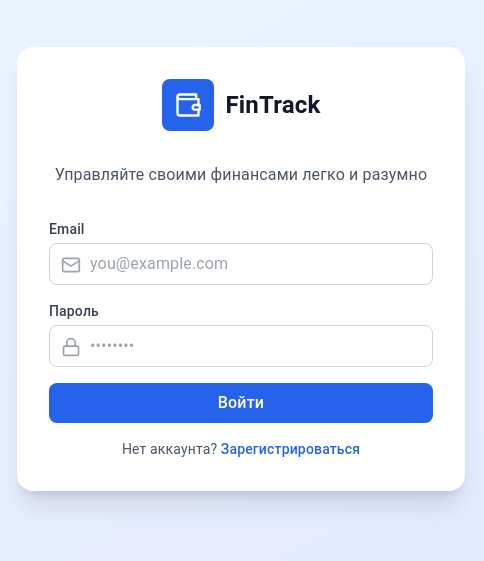
Test case: Вход пользователя в систему › SC-LOGIN-02: Пользователь видит ошибку при неверном пароле
Step 1. Type "test.user@example.com" into the field with placeholder "you@example.com" → (241, 264), box [49,243,433,285]
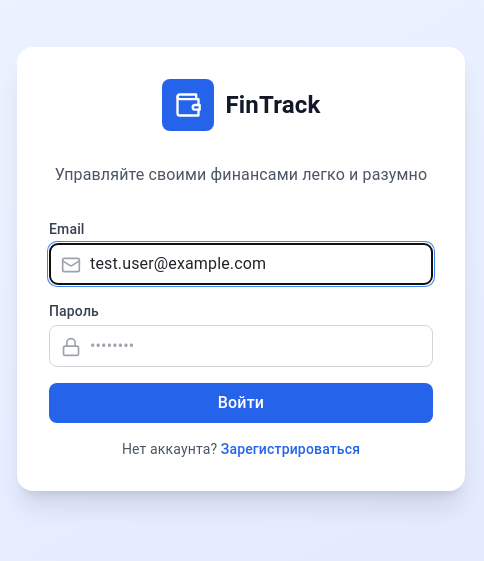
Step 2. Type "wrongPassword!" into the password field with placeholder "••••••••" → (241, 346), box [49,325,433,367]
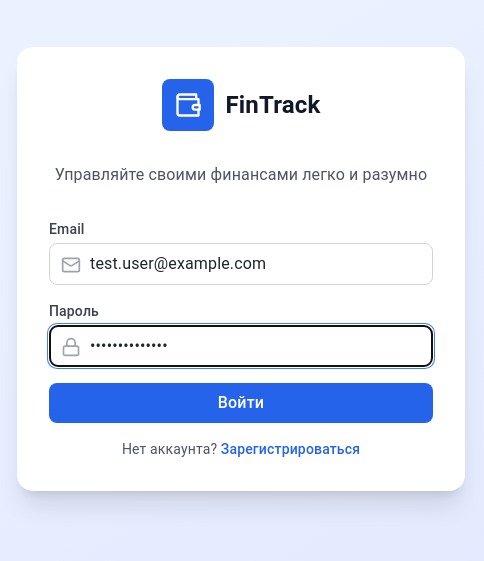
Step 3. Click the submit button → click(241, 403), box [49,383,433,423]
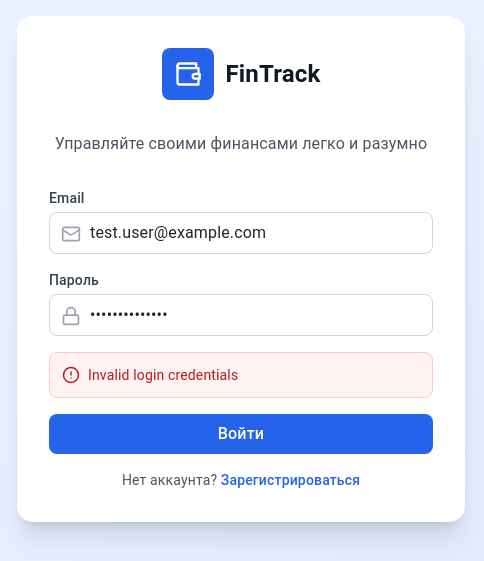
Check: the element showing "Invalid login credentials" is shown, box [49,352,433,398]
Check: the text "Invalid login credentials" is shown, box [88,365,238,385]
